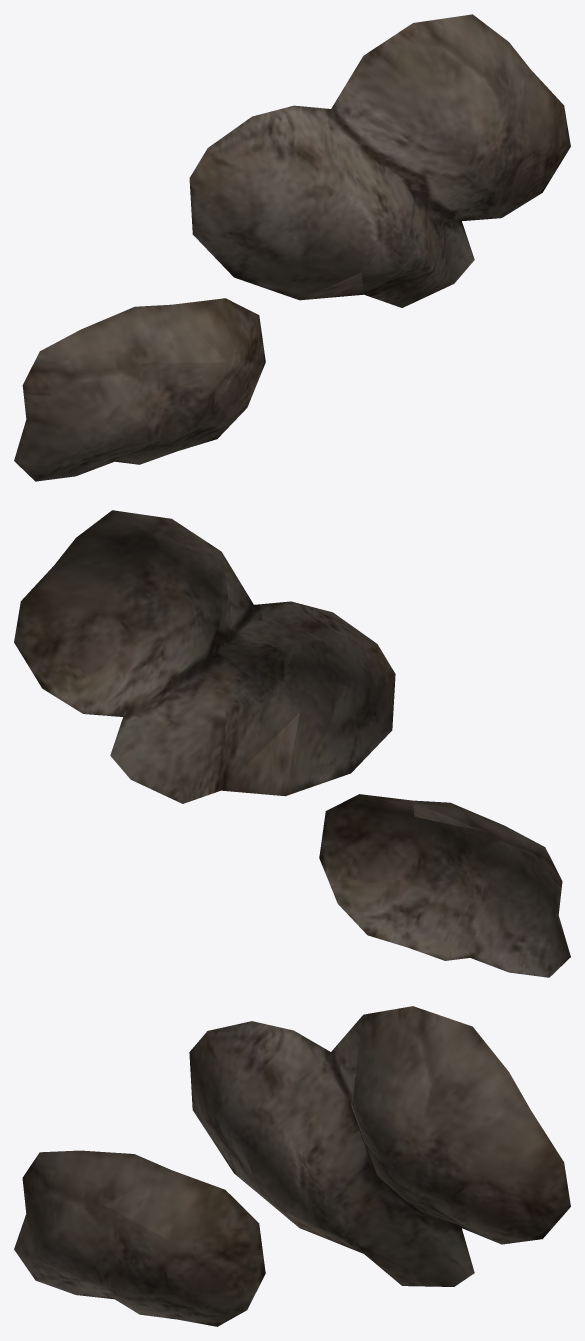
The model's file is prop_toujane_roadrock1.glb.
3 renders of one model, top to bottom at view 1: azimuth 30°, elevation 25°; view 2: azimuth 150°, elevation 25°; view 3: azimuth 330°, elevation 25°, orthographic.
Size of the model in its own units: 31.4 by 20.21 by 4.32.
Materials: 1 (1 with a texture image).
